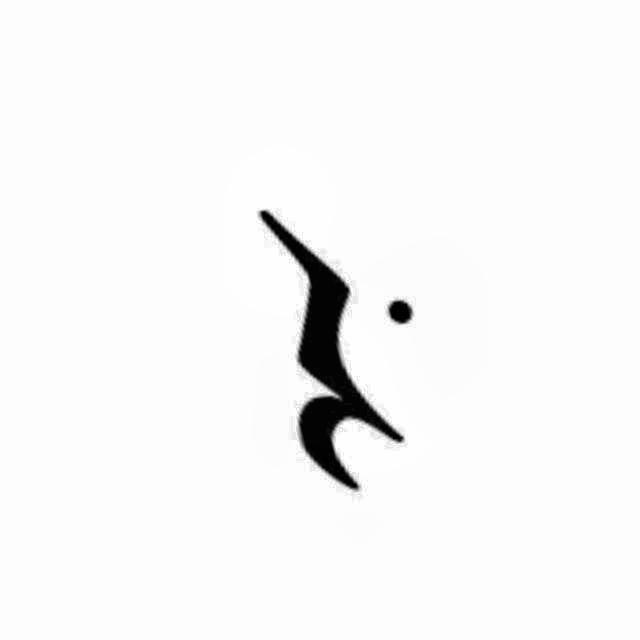Quarter-rest: (243, 202, 461, 506)
